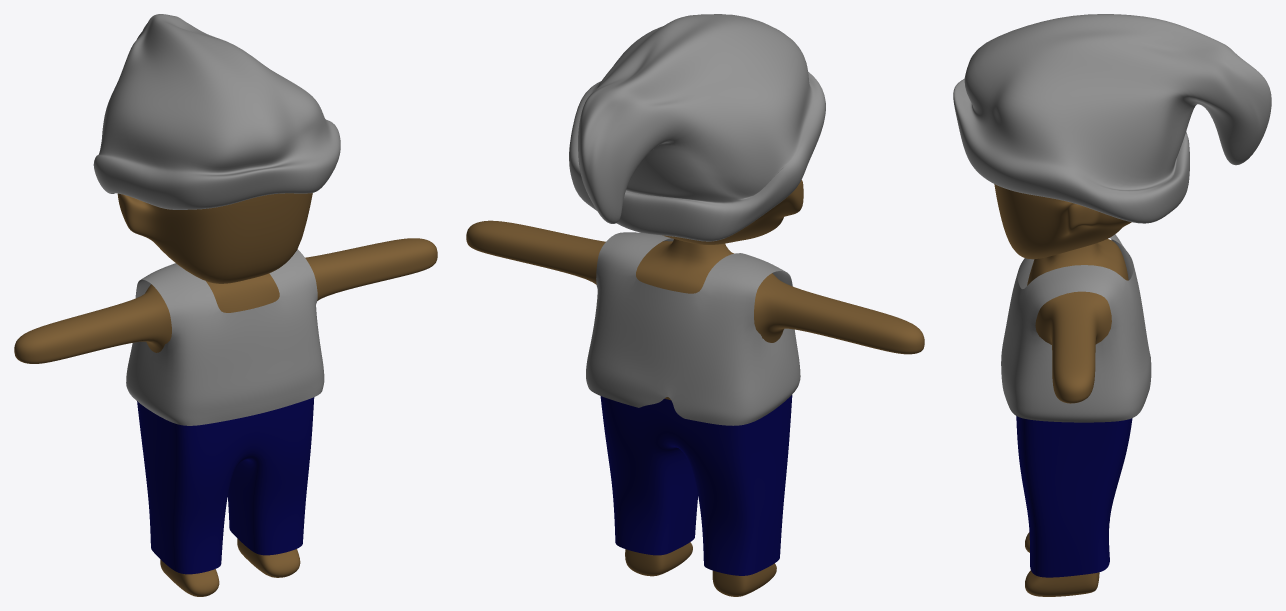
File: Alien_Orange_Geo (1).fbx
3 renders of one model, left to right at view 1: azimuth 30°, elevation 25°; view 2: azimuth 150°, elevation 25°; view 3: azimuth 270°, elevation 25°, orthographic. The views are drawn at different scales.
Parts seen in each view (by area): view 1: Alien_Orange_Geo; view 2: Alien_Orange_Geo; view 3: Alien_Orange_Geo.
Part boxes in pixels (left/top/right/bottom): Alien_Orange_Geo: left=14, top=14, right=437, bottom=596; Alien_Orange_Geo: left=466, top=14, right=924, bottom=596; Alien_Orange_Geo: left=953, top=14, right=1271, bottom=596.
Bounding box in the file's own units: 78.71 × 93.77 × 49.33.
